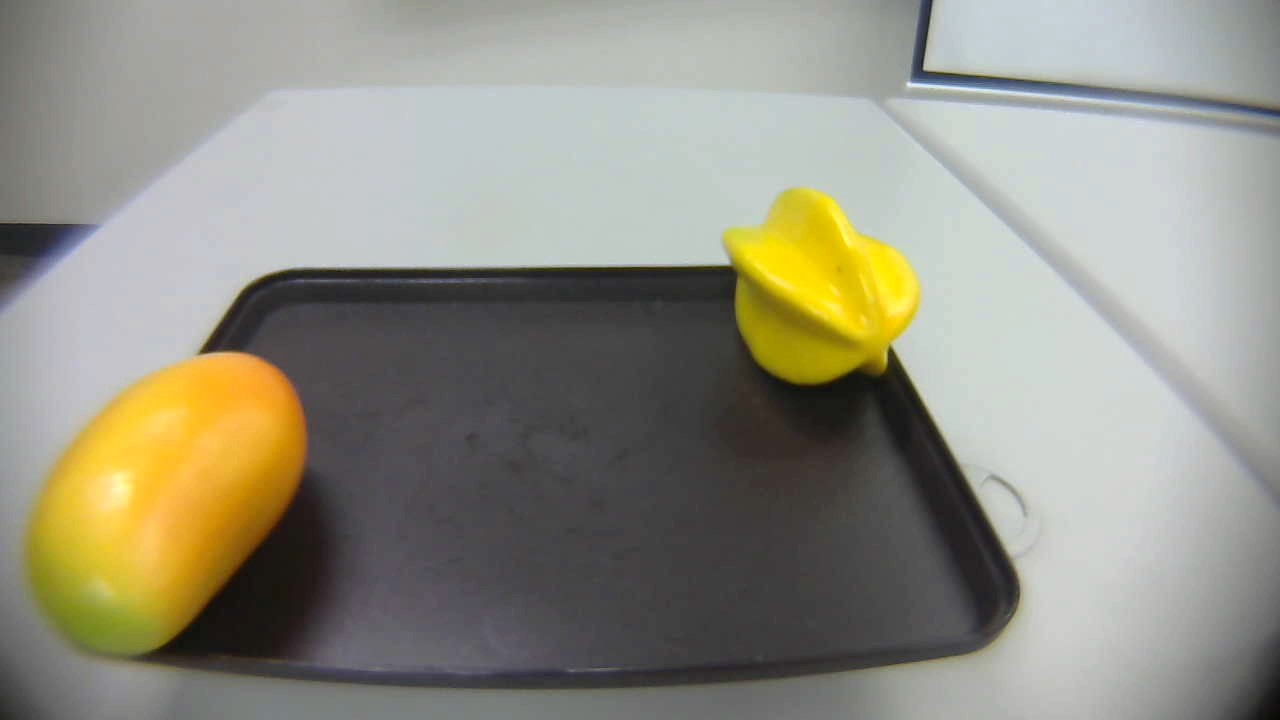star fruit: (717, 182, 931, 413)
yellow mango: (23, 351, 328, 661)
